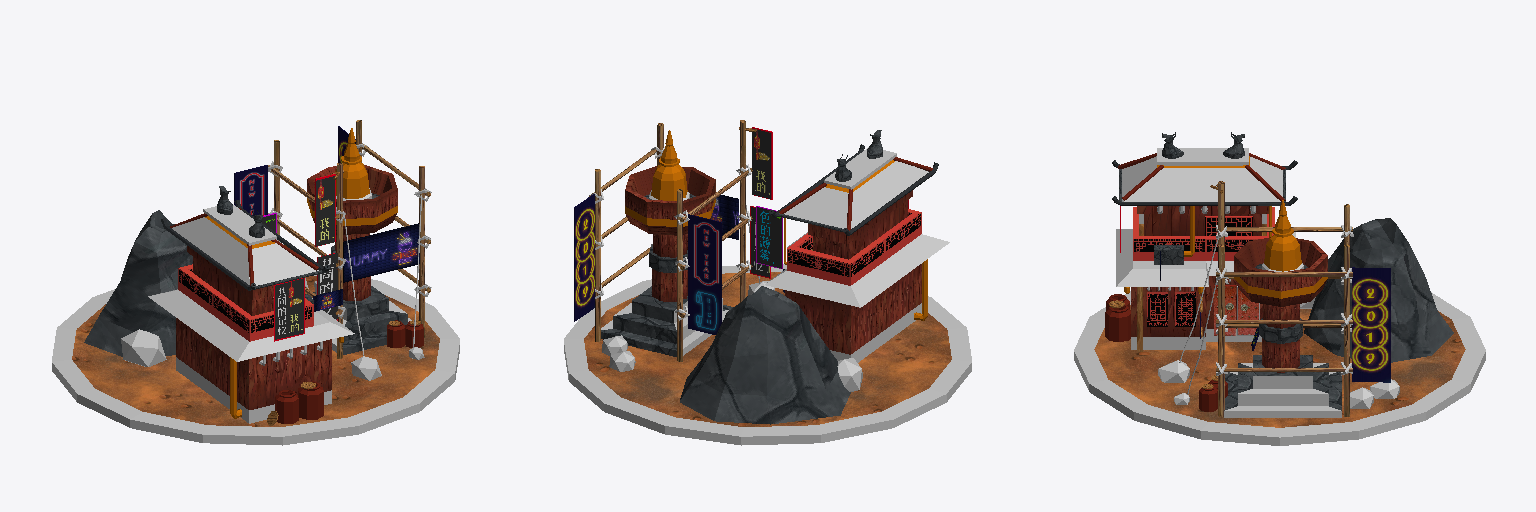
3 views of the same model, side by side, from view 1: azimuth 30°, elevation 25°; view 2: azimuth 150°, elevation 25°; view 3: azimuth 270°, elevation 25° (orthographic).
Visible parts, largest first — view 1: Cylinder_Cylinder_Dirt, Cylinder_Cylinder_Rock, Cylinder.038_Cylinder.047_Mountain, Cube_Cube.001_WallRed, Cube.005_Cube.006_Roof, Cube_Cube.001_Roof, Cylinder.028_Cylinder.036_WallRed, Cube.013_Cube.015_Summer, Cube_Cube.001_ChineseWindows, Cube.012_Cube.014_GreenDark, Cylinder.029_Cylinder.037_Bamboo, Cube.005_Cube.006_Wood_red (+12 smaller); view 2: Cylinder.038_Cylinder.047_Mountain, Cylinder_Cylinder_Dirt, Cylinder_Cylinder_Rock, Cube_Cube.001_WallRed, Cube.005_Cube.006_Roof, Cylinder.028_Cylinder.036_WallRed, Cube_Cube.001_Roof, Cube_Cube.001_ChineseWindows, Cube.014_Cube.016_Neon, Cube.012_Cube.014_GreenDark, Cylinder.029_Cylinder.037_Bamboo, Cube.017_Cube.019_Neon (+11 smaller); view 3: Cylinder_Cylinder_Dirt, Cylinder_Cylinder_Rock, Cylinder.038_Cylinder.047_Mountain, Cube.005_Cube.006_Roof, Cylinder.028_Cylinder.036_WallRed, Cube.017_Cube.019_Neon, Cube.012_Cube.014_Rock, Cube_Cube.001_Roof, Cylinder.029_Cylinder.037_Bamboo, Cylinder.030_Cylinder.038_Bamboo, Cube_Cube.001_WallRed, Cube.005_Cube.006_Wood_red (+15 smaller).
Part boxes in pixels (x1,y1,x2,y2): Cylinder_Cylinder_Dirt: (72, 276, 439, 426); Cylinder_Cylinder_Rock: (52, 275, 459, 445); Cylinder.038_Cylinder.047_Mountain: (84, 210, 192, 356); Cube_Cube.001_WallRed: (176, 318, 331, 409); Cube.005_Cube.006_Roof: (172, 205, 318, 285); Cube_Cube.001_Roof: (148, 289, 354, 361); Cylinder.028_Cylinder.036_WallRed: (307, 165, 397, 300); Cube.013_Cube.015_Summer: (343, 223, 419, 282); Cube_Cube.001_ChineseWindows: (178, 264, 313, 341); Cube.012_Cube.014_GreenDark: (307, 286, 407, 354); Cylinder.029_Cylinder.037_Bamboo: (274, 120, 424, 358); Cube.005_Cube.006_Wood_red: (187, 246, 273, 315); Cylinder.038_Cylinder.047_Mountain: (680, 286, 850, 424); Cylinder_Cylinder_Dirt: (584, 272, 951, 426); Cylinder_Cylinder_Rock: (564, 264, 971, 445); Cube_Cube.001_WallRed: (785, 264, 921, 354); Cube.005_Cube.006_Roof: (784, 147, 928, 228); Cylinder.028_Cylinder.036_WallRed: (625, 166, 715, 301); Cube_Cube.001_Roof: (765, 232, 949, 307); Cube_Cube.001_ChineseWindows: (787, 209, 921, 285); Cube.014_Cube.016_Neon: (688, 214, 721, 334); Cube.012_Cube.014_GreenDark: (601, 286, 732, 356); Cylinder.029_Cylinder.037_Bamboo: (595, 120, 745, 361); Cube.017_Cube.019_Neon: (574, 194, 594, 321); Cylinder_Cylinder_Dirt: (1094, 305, 1465, 427); Cylinder_Cylinder_Rock: (1074, 291, 1485, 445); Cylinder.038_Cylinder.047_Mountain: (1304, 218, 1453, 362); Cube.005_Cube.006_Roof: (1122, 148, 1282, 201); Cylinder.028_Cylinder.036_WallRed: (1234, 237, 1327, 372); Cube.017_Cube.019_Neon: (1352, 267, 1390, 382); Cube.012_Cube.014_Rock: (1224, 363, 1341, 417); Cube_Cube.001_Roof: (1116, 229, 1295, 286); Cylinder.029_Cylinder.037_Bamboo: (1218, 181, 1349, 417); Cylinder.030_Cylinder.038_Bamboo: (1216, 227, 1352, 371); Cube_Cube.001_WallRed: (1131, 276, 1262, 336); Cube.005_Cube.006_Wood_red: (1137, 206, 1268, 235).
Size of the model in its own units: 13.1 by 7.23 by 13.1.
Materials: 21 (12 with a texture image).